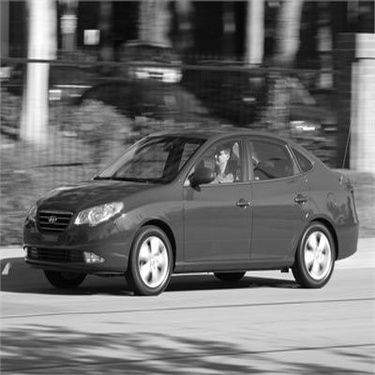car: (15, 108, 363, 294)
